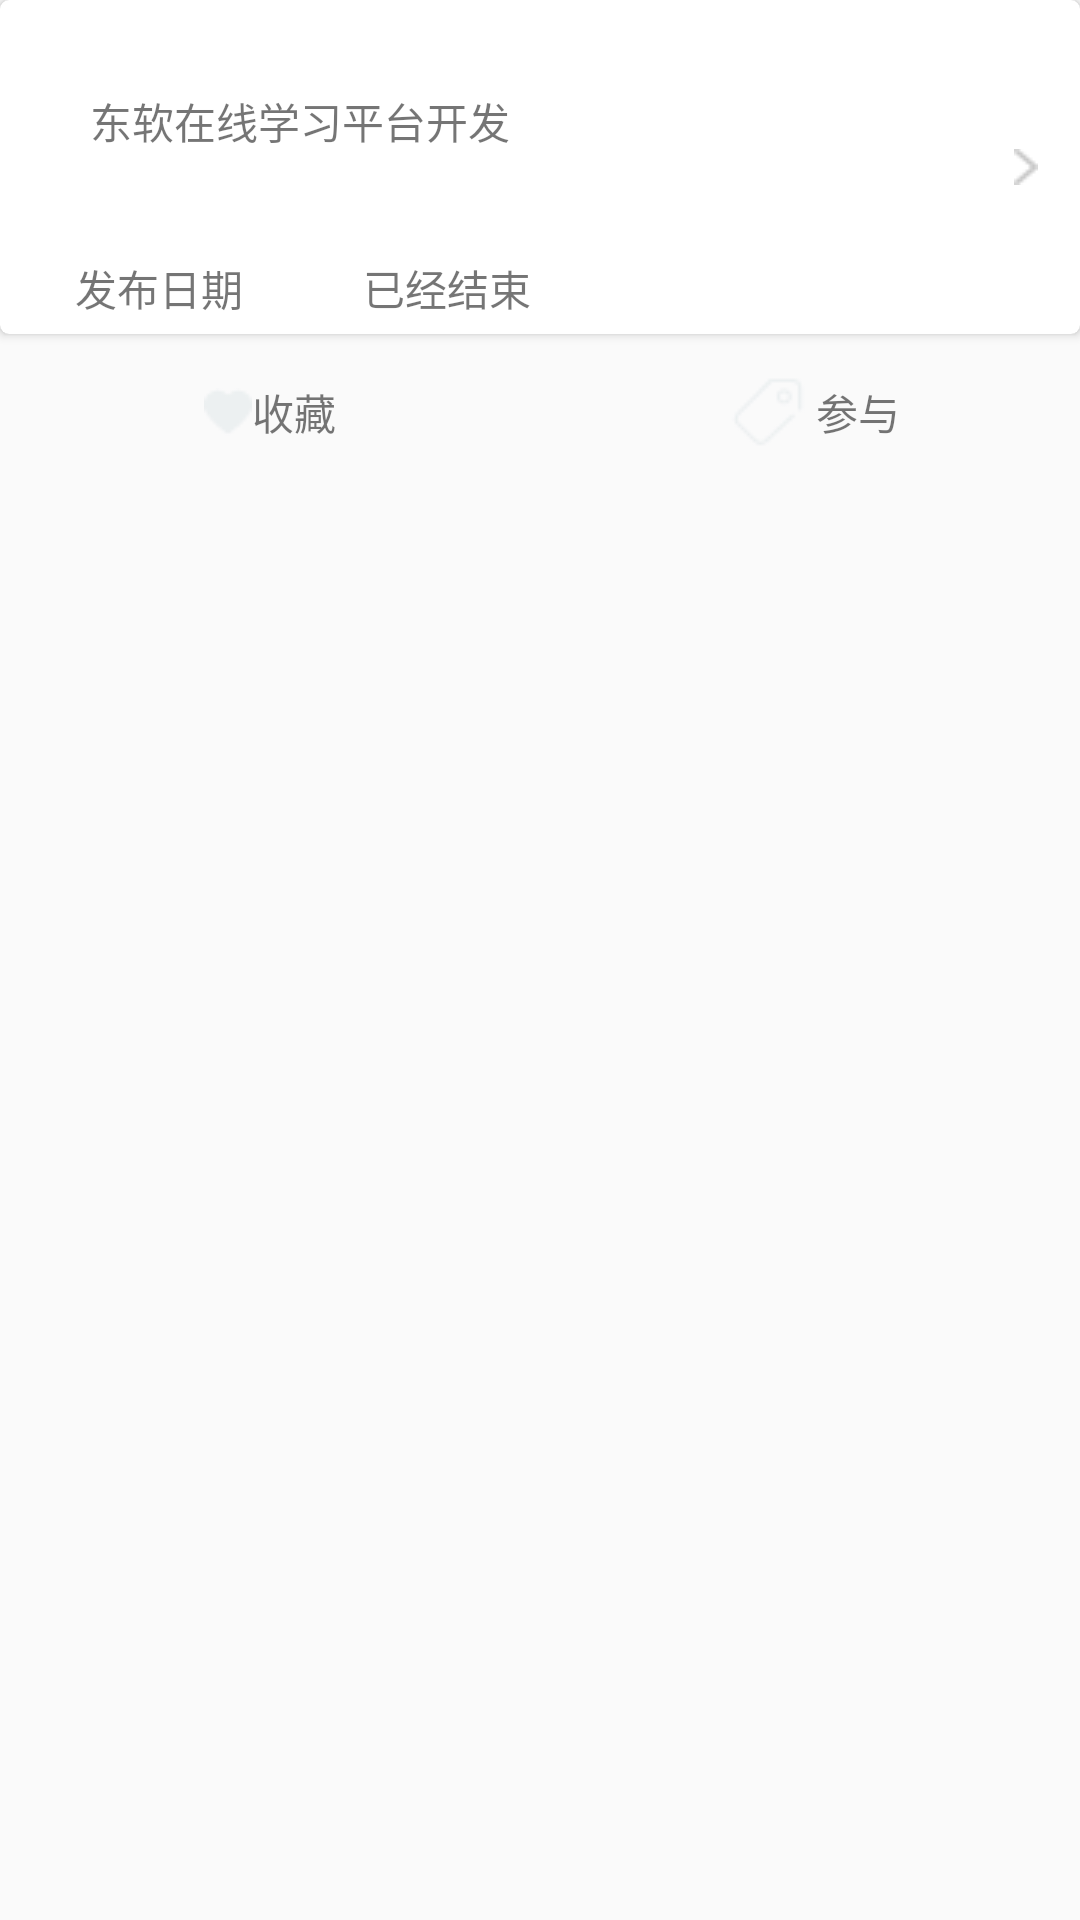

Named icons in this screenshot (1080 × 1920) and their centers, (x=x, y=y):
arrow more: (x=1026, y=167)
